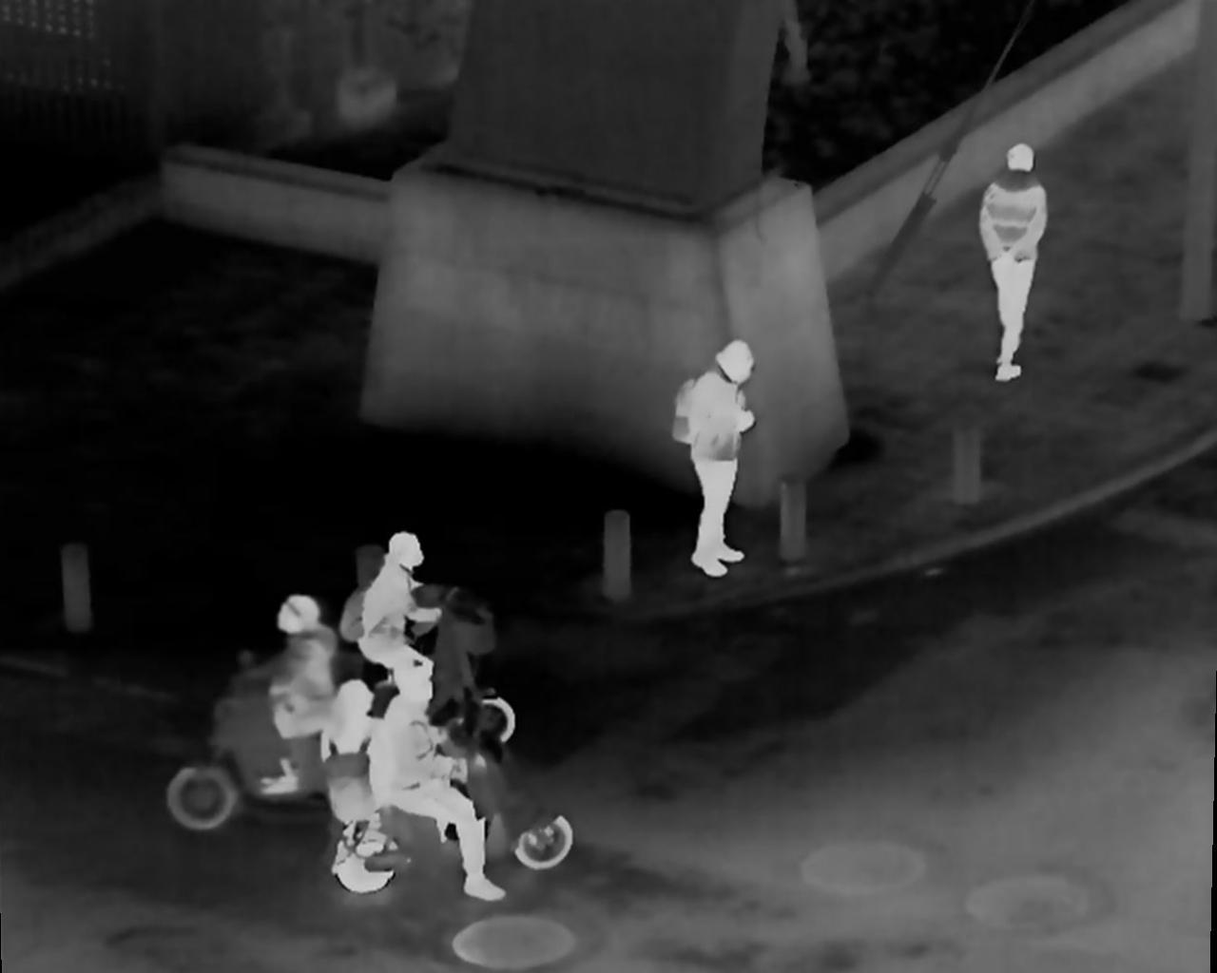person: (371, 663, 498, 898), (667, 329, 773, 578), (972, 137, 1061, 391), (349, 529, 454, 702), (271, 592, 351, 747), (319, 680, 377, 754)
